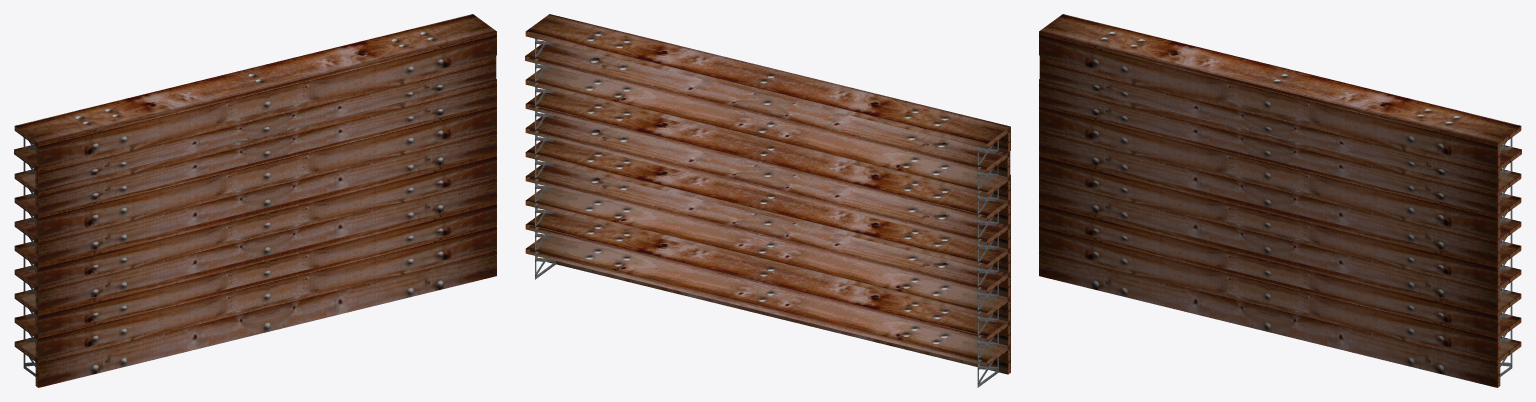
File: bleachers_wood_folded.fbx
3 views of the same model, side by side, from view 1: azimuth 30°, elevation 25°; view 2: azimuth 150°, elevation 25°; view 3: azimuth 330°, elevation 25° (orthographic).
Visible parts, largest first — view 1: mesh_1, mesh_0; view 2: mesh_1, mesh_0; view 3: mesh_1, mesh_0.
Boxes of the visible parts, x1=… form: mesh_1: x1=14, y1=14, x2=496, y2=387; mesh_0: x1=23, y1=137, x2=35, y2=376; mesh_1: x1=525, y1=14, x2=1010, y2=374; mesh_0: x1=535, y1=38, x2=998, y2=387; mesh_1: x1=1039, y1=14, x2=1521, y2=387; mesh_0: x1=1500, y1=137, x2=1512, y2=376.
Size of the model in its own units: 1000 by 510 by 91.97.
2 materials, 2 textured.
